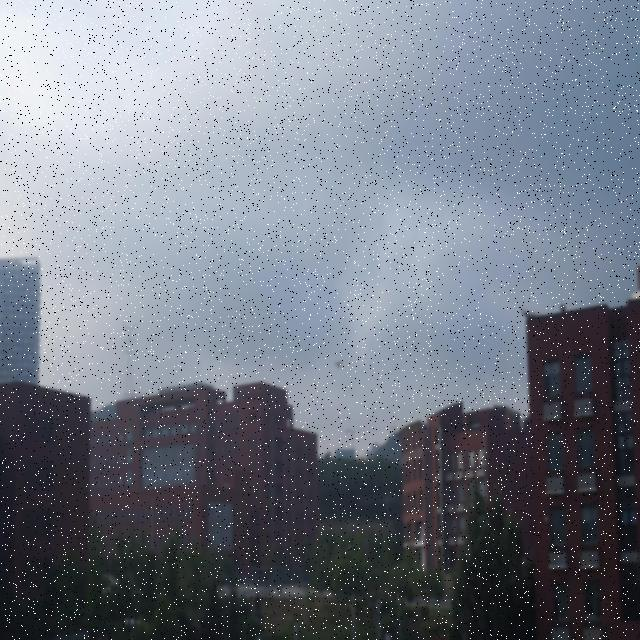UAV: (334, 360, 344, 370)
